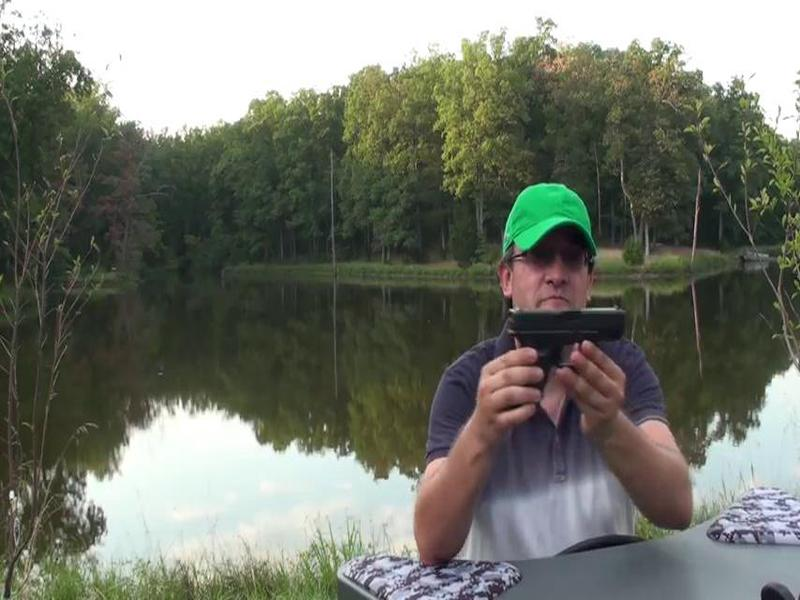Pistola: (486, 294, 642, 403)
